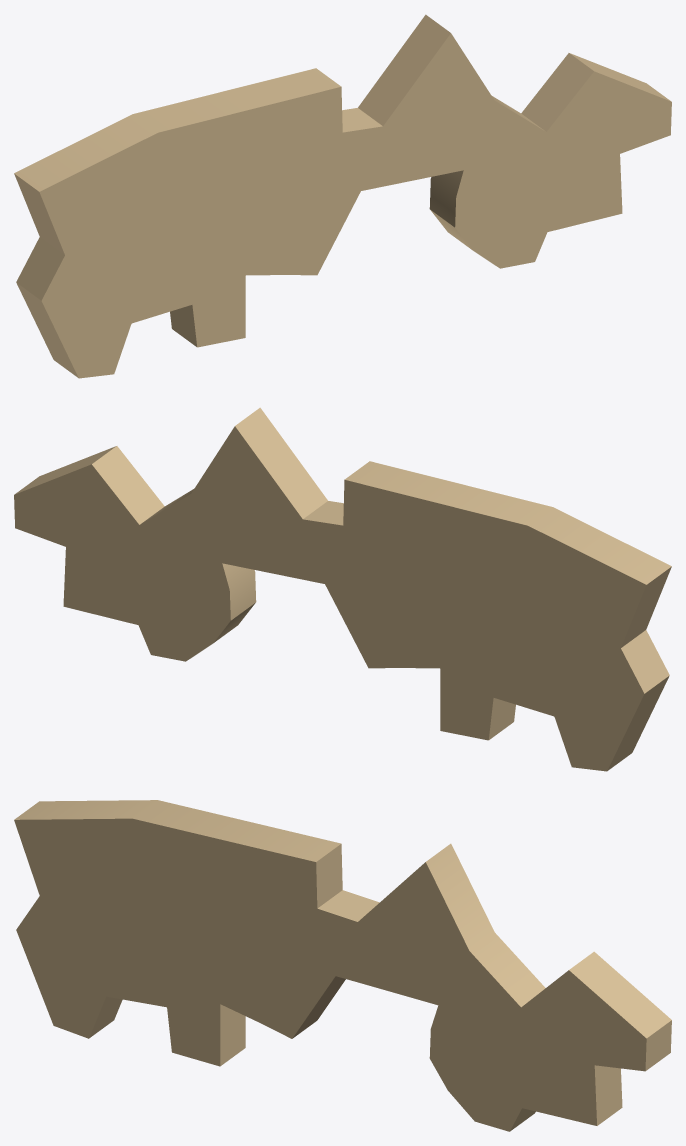
Rendered from canelas.fbx.
3 renders of one model, top to bottom at view 1: azimuth 30°, elevation 25°; view 2: azimuth 150°, elevation 25°; view 3: azimuth 330°, elevation 25°, orthographic.
Visible parts, largest first — view 1: canelas; view 2: canelas; view 3: canelas.
Boxes of the visible parts, x1,y1,x2,y2 form: canelas: (14, 14, 671, 378); canelas: (14, 407, 671, 771); canelas: (14, 800, 671, 1131).
Bounding box in the file's own units: 115 × 45.09 × 8.
